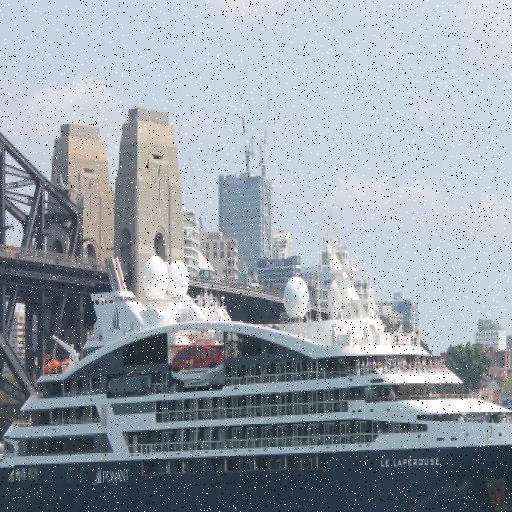cruises: (1, 236, 512, 512)
